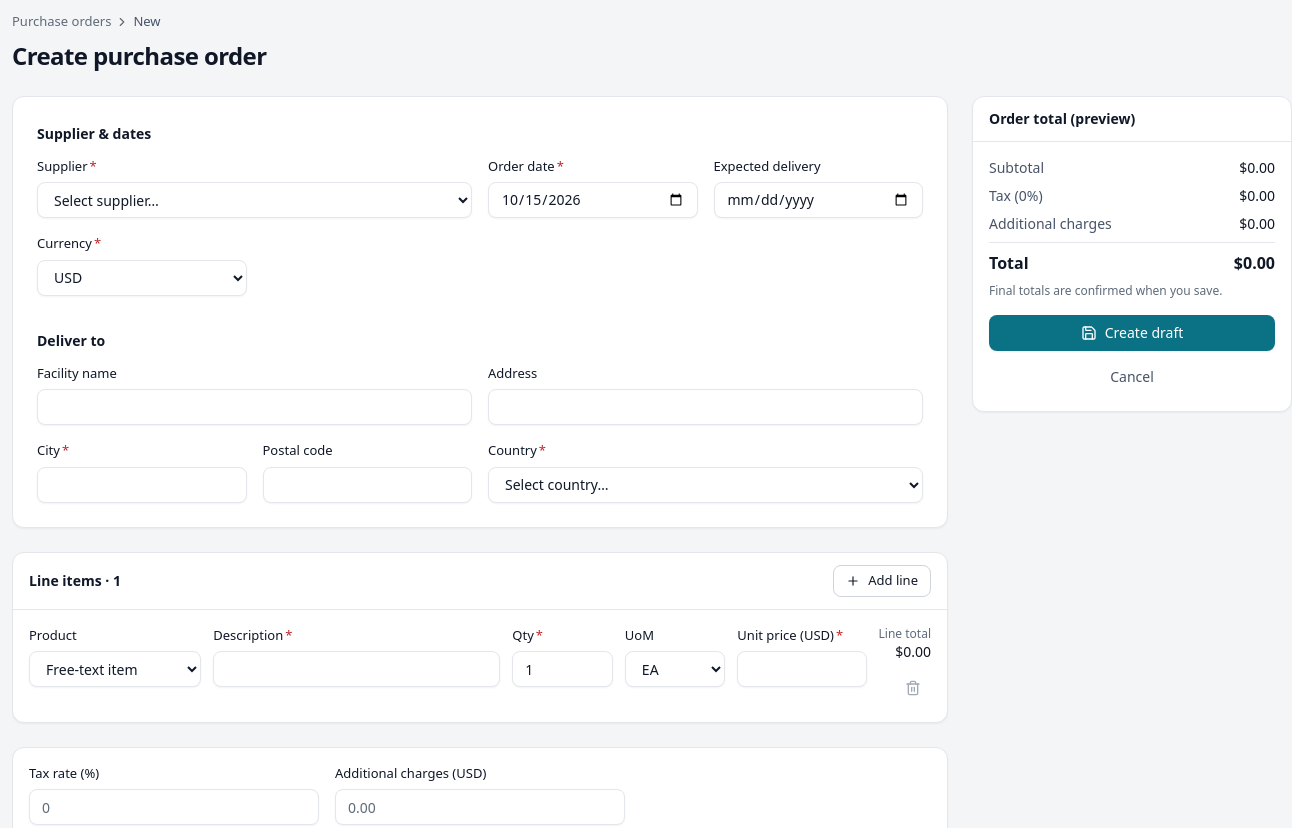
Test: purchase order form › validates required fields before submitting
Click the button "Create draft" at (1132, 332), box [989,314,1275,350]
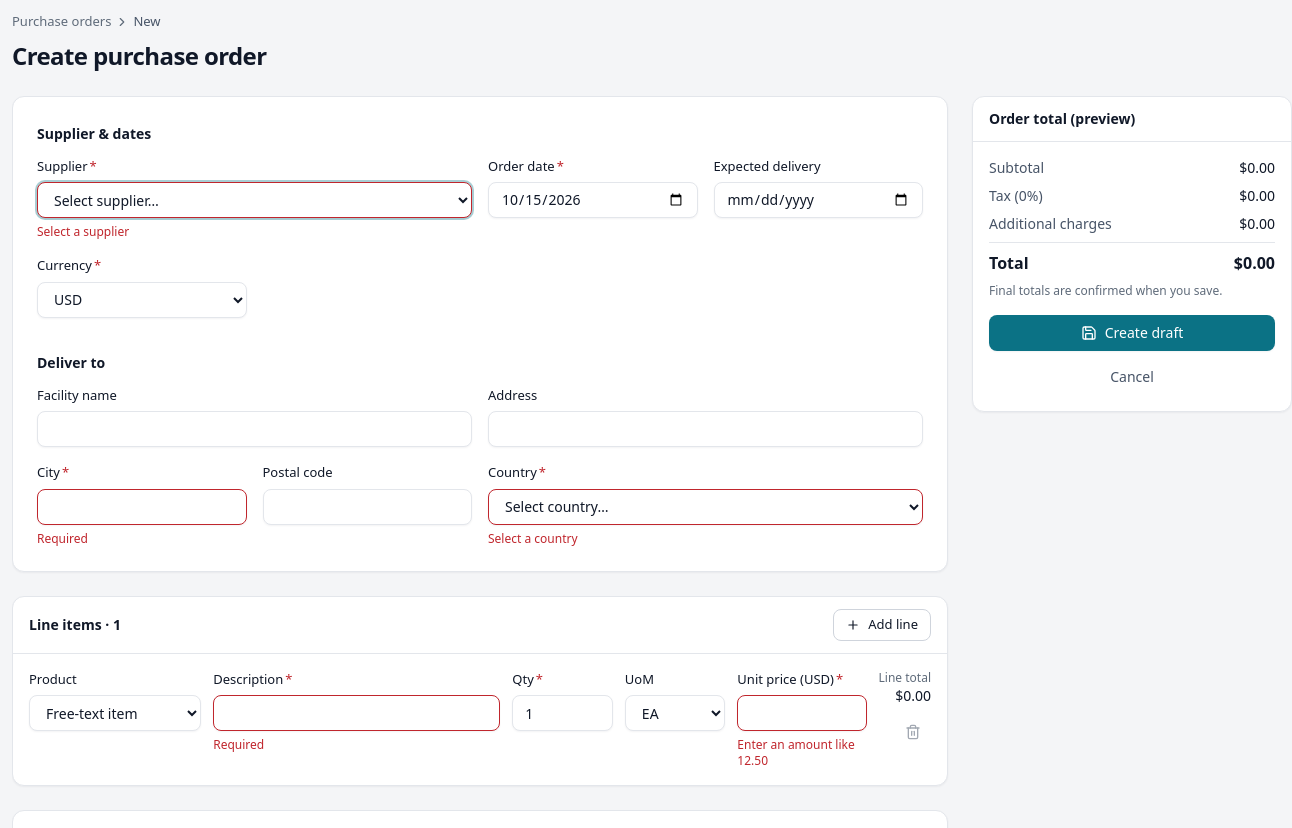
Expected: the text "Select a supplier" is shown, [37,223,129,240]
